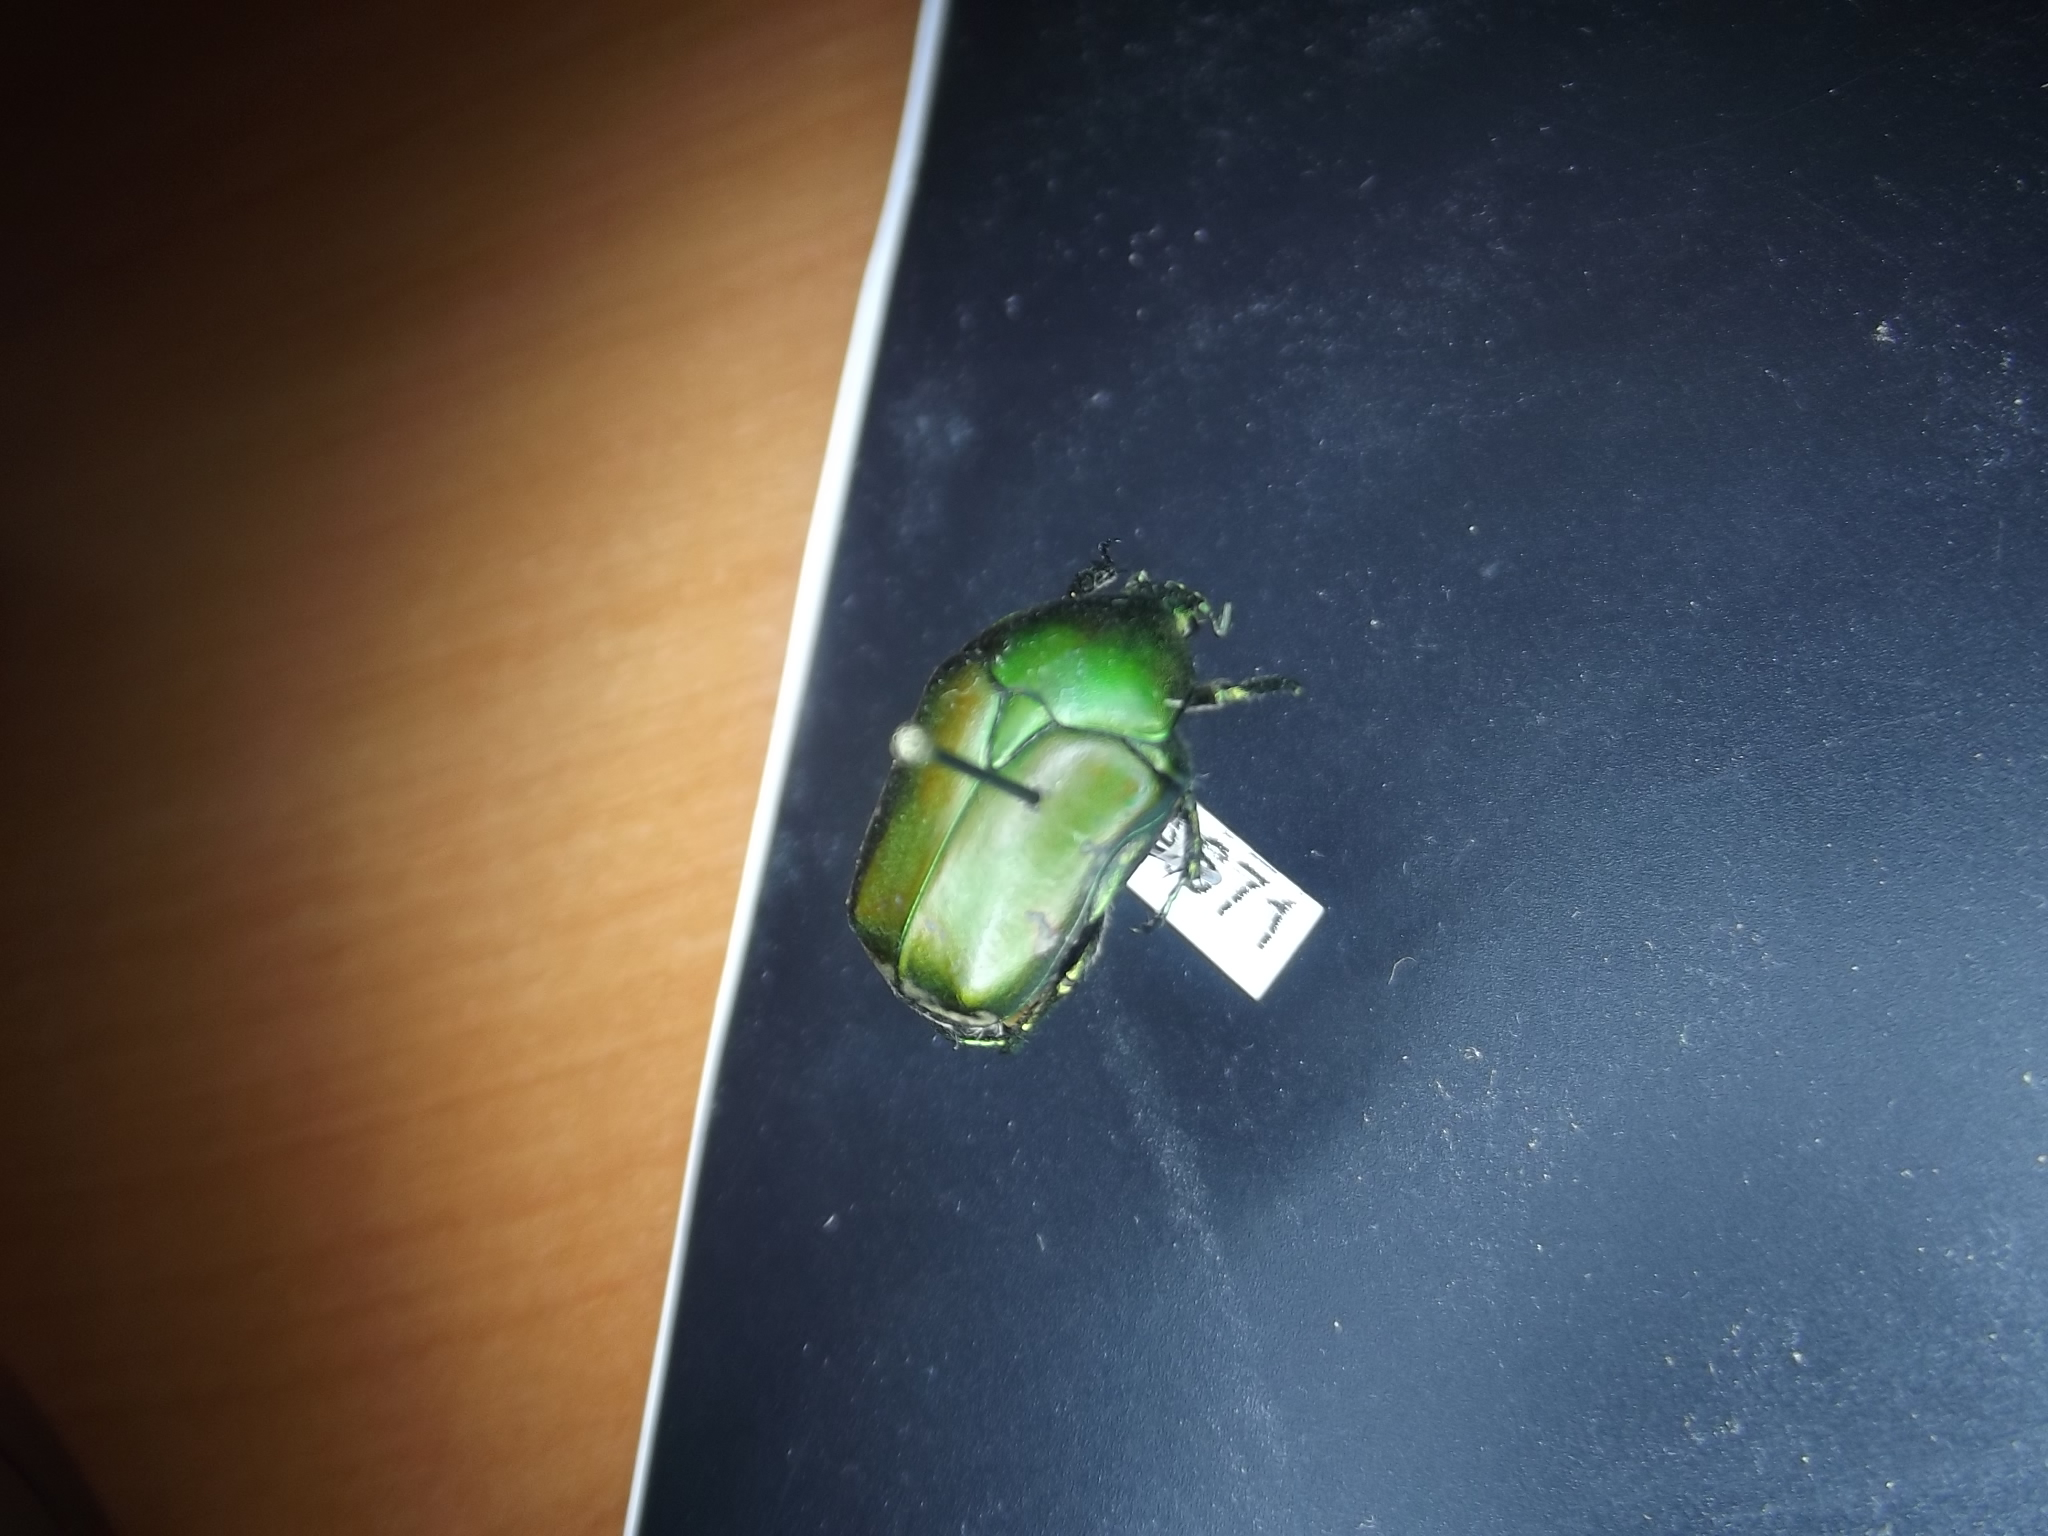Protaetia_ungarica: (840, 550, 1282, 1071)
